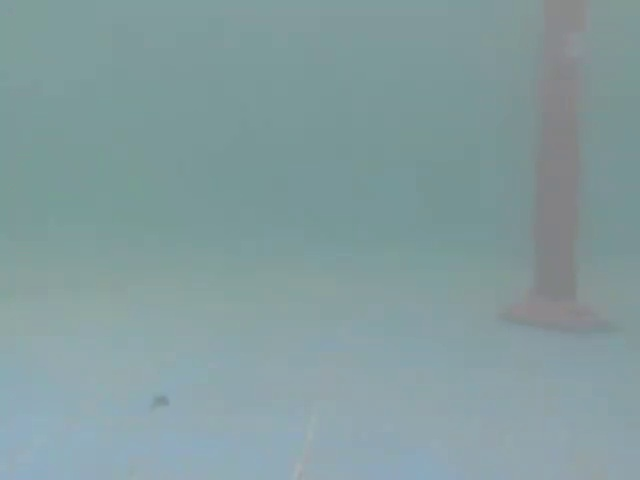flare: (495, 0, 624, 339)
